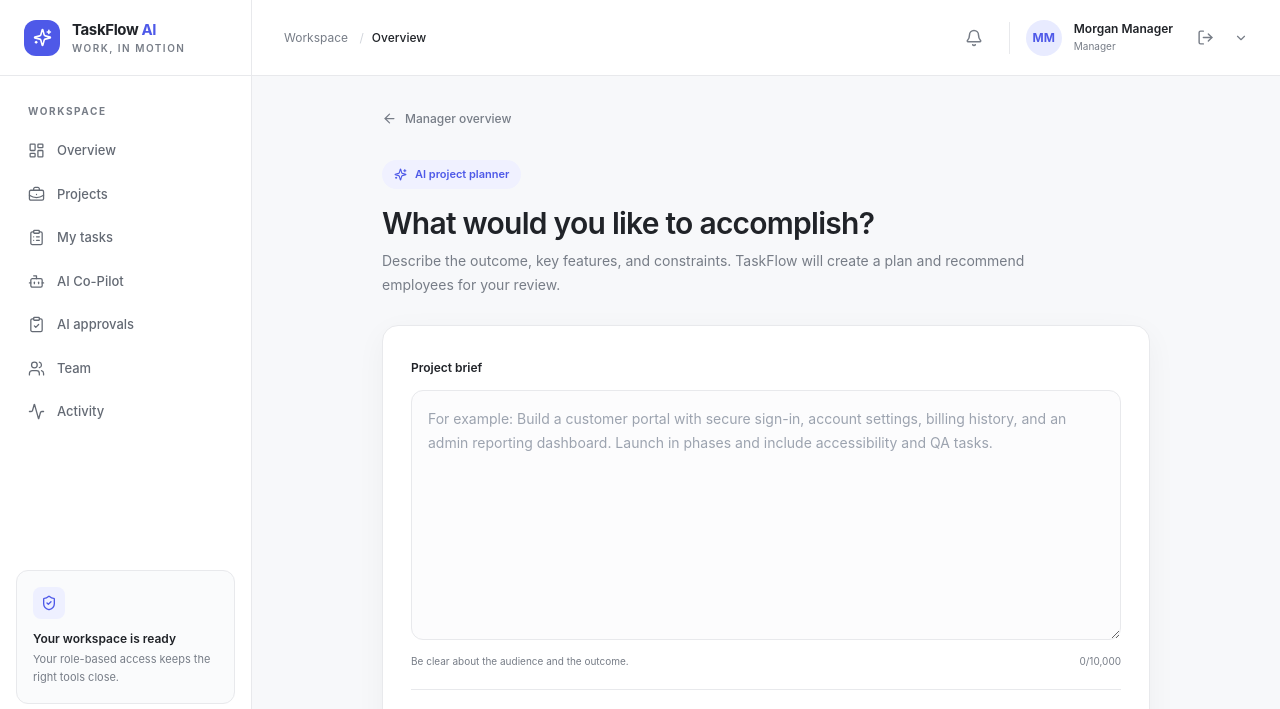
manager dashboard flows › starts AI planning and displays the generated plan and dependencies
This screenshot has width=1280, height=709.
Type "Build a customer portal" into the text box labelled "Project brief" at x=766, y=514, box x1=411 y1=390 x2=1121 y2=640
(page scrolled)
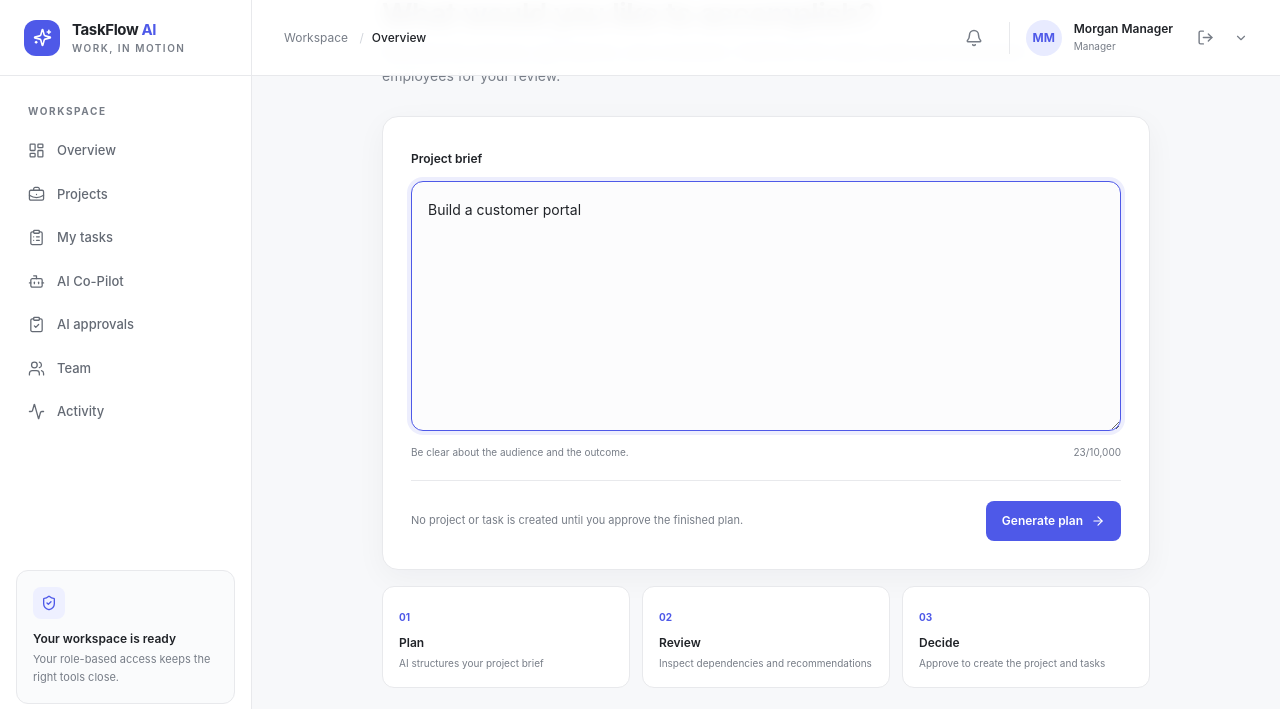
Click the button "Generate plan" at x=1053, y=520, box x1=986 y1=500 x2=1121 y2=540
(page scrolled)
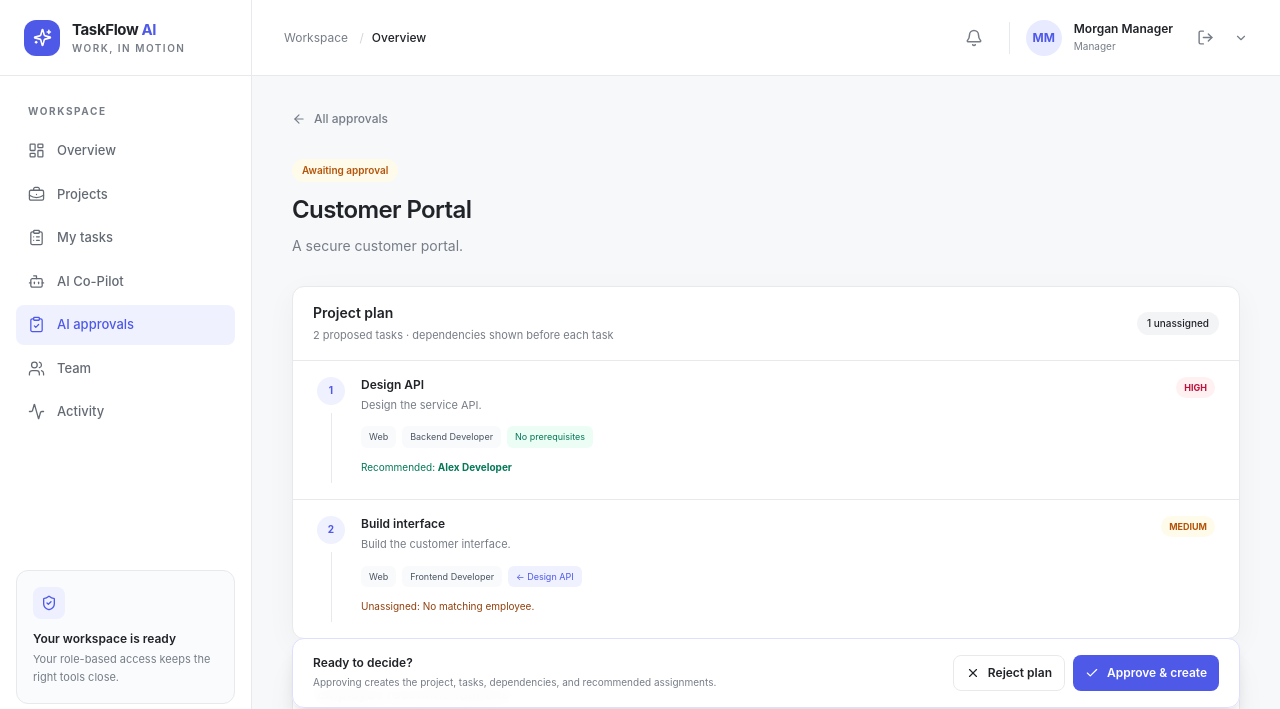
Now the heading "Customer Portal" is shown, box x1=292 y1=194 x2=471 y2=226
Now the text "← Design API" is shown, box x1=508 y1=566 x2=582 y2=587
Now the text "Alex Developer" is shown 2 times
